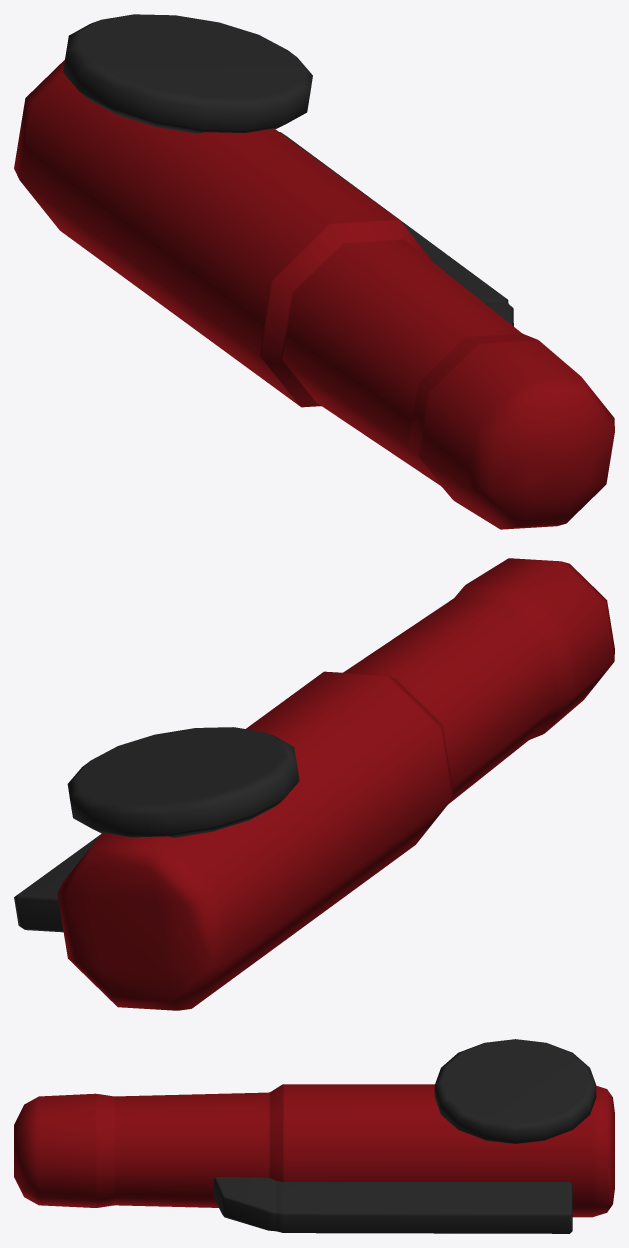
File: Ship_enemy_01_Weapon_L.fbx
The picture shows the model from 3 angles, top to bottom: view 1: azimuth 30°, elevation 25°; view 2: azimuth 150°, elevation 25°; view 3: azimuth 270°, elevation 25°; orthographic projection. The views are drawn at different scales.
Visible parts, largest first — view 1: Ship_enemy_01_Weapon_L; view 2: Ship_enemy_01_Weapon_L; view 3: Ship_enemy_01_Weapon_L.
Part boxes in pixels (x1,y1,x2,y2): Ship_enemy_01_Weapon_L: (14,14,614,529); Ship_enemy_01_Weapon_L: (14,558,614,1010); Ship_enemy_01_Weapon_L: (14,1039,614,1233).
Bounding box in the file's own units: 69.88 × 61.9 × 227.
